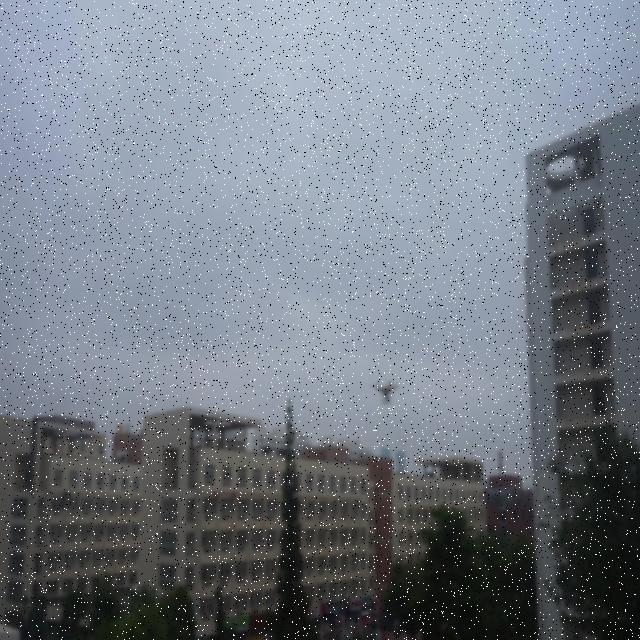UAV: (370, 380, 401, 406)
